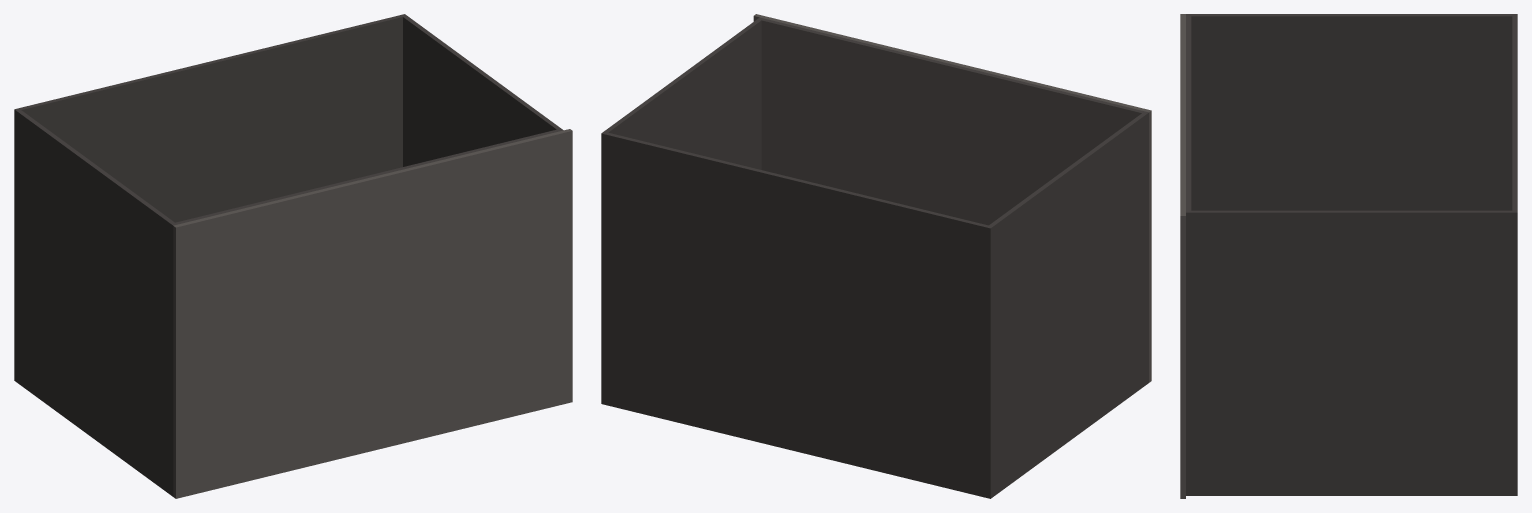
File: Cupboard_23_02.fbx
3 renders of one model, left to right at view 1: azimuth 30°, elevation 25°; view 2: azimuth 150°, elevation 25°; view 3: azimuth 270°, elevation 25°, orthographic. The views are drawn at different scales.
Visible parts, largest first — view 1: Cupboard_23_02; view 2: Cupboard_23_02; view 3: Cupboard_23_02.
Part boxes in pixels (x1,y1,x2,y2): Cupboard_23_02: (14,14,572,498); Cupboard_23_02: (601,14,1151,498); Cupboard_23_02: (1180,14,1517,498).
Bounding box in the file's own units: 51.11 × 33.4 × 36.06.
